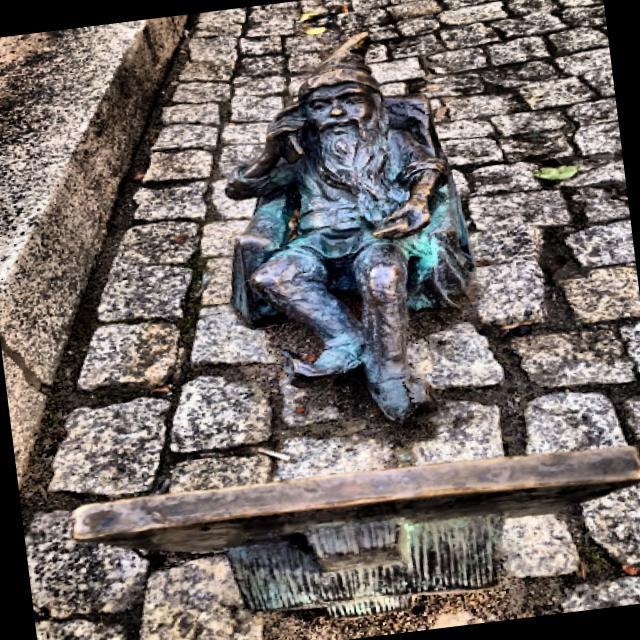Dialogomir: (64, 445, 640, 619), (224, 31, 475, 425)
